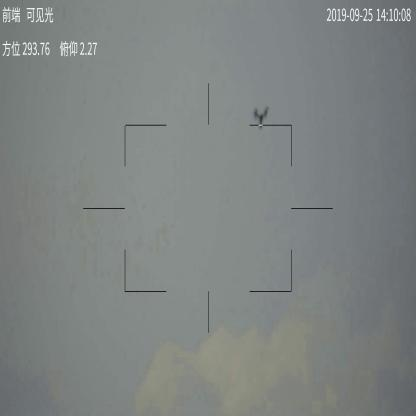uav: (251, 104, 271, 129)
